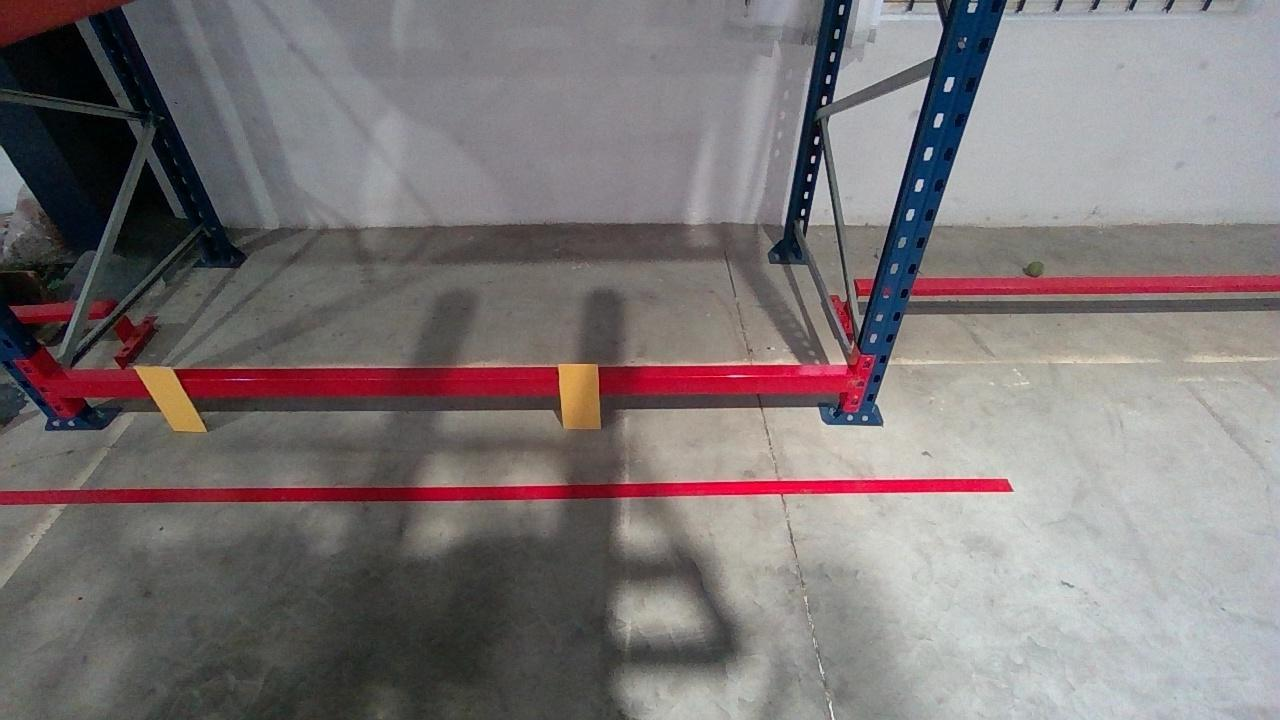h_rack: (39, 375, 868, 398)
orange_strip: (132, 367, 207, 430), (555, 363, 600, 428)
red_line: (3, 478, 1019, 502)
